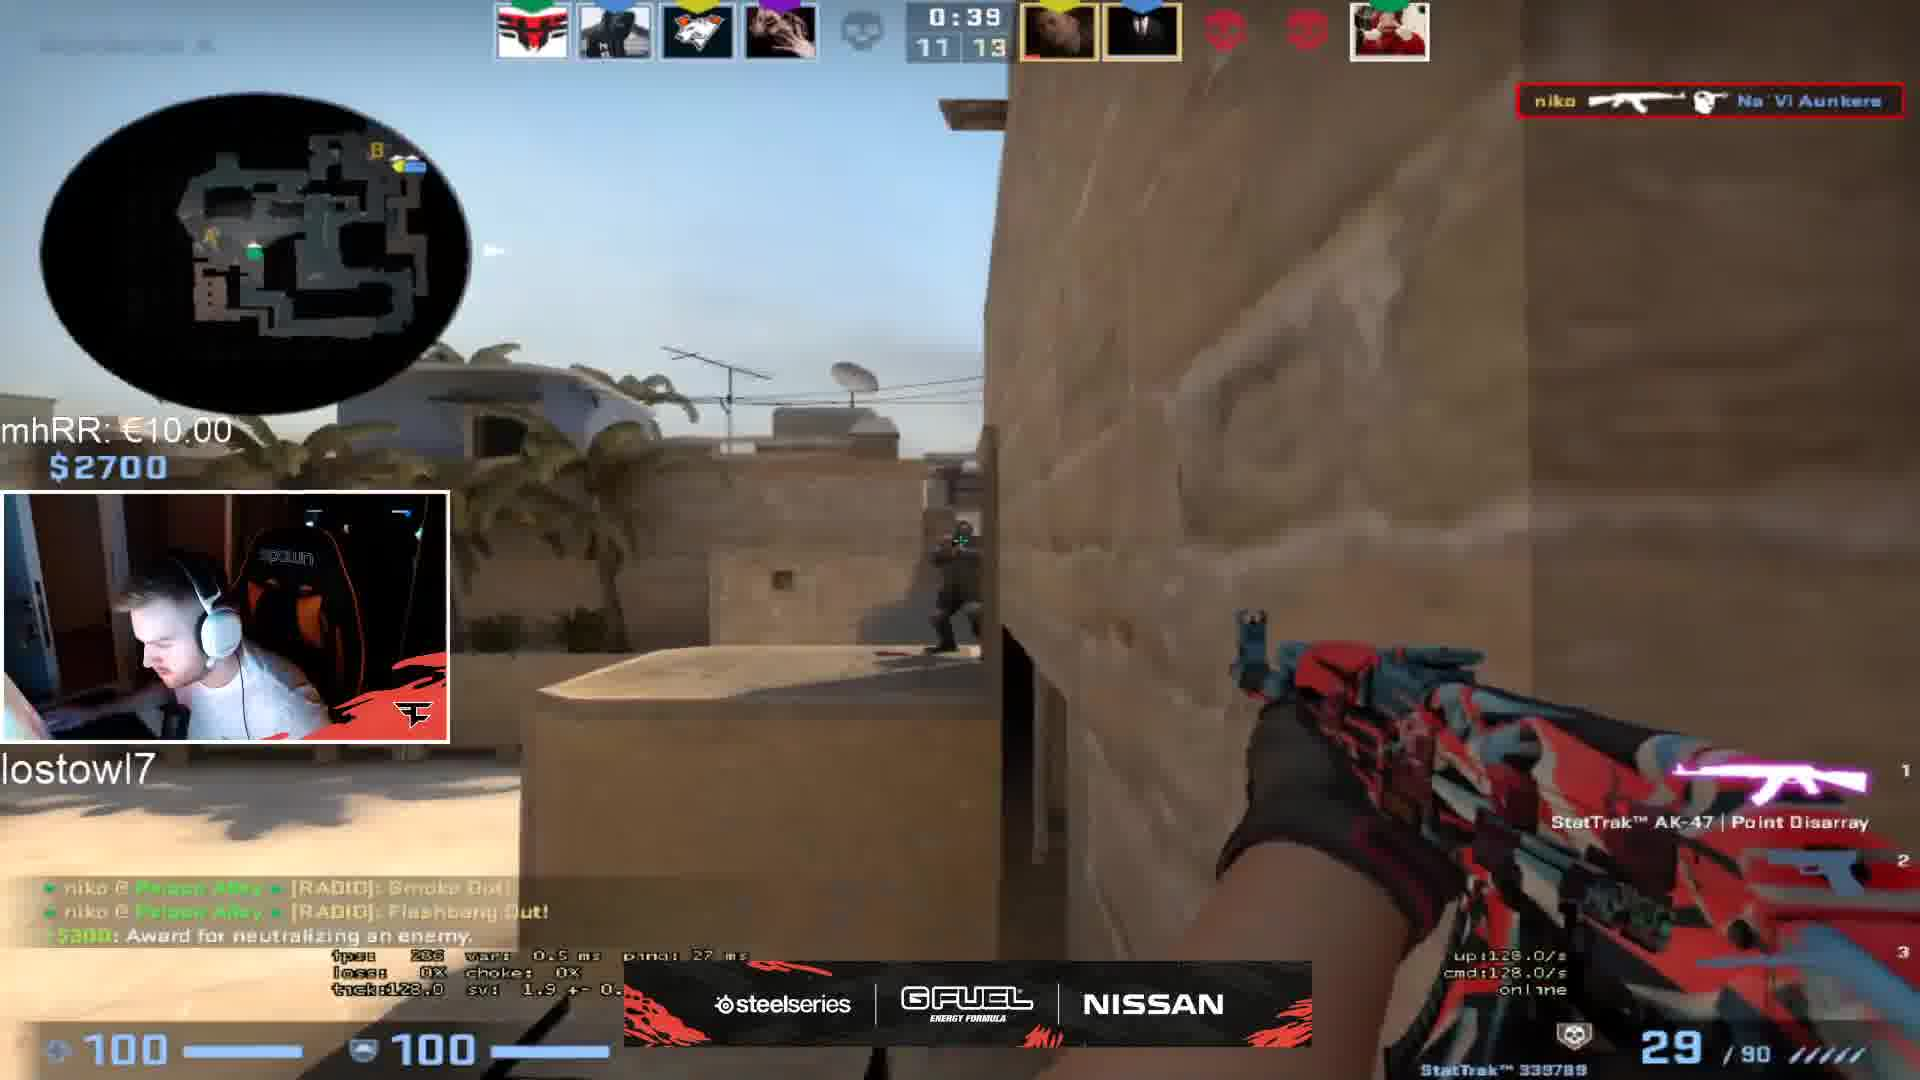enemy: (923, 512, 994, 657)
